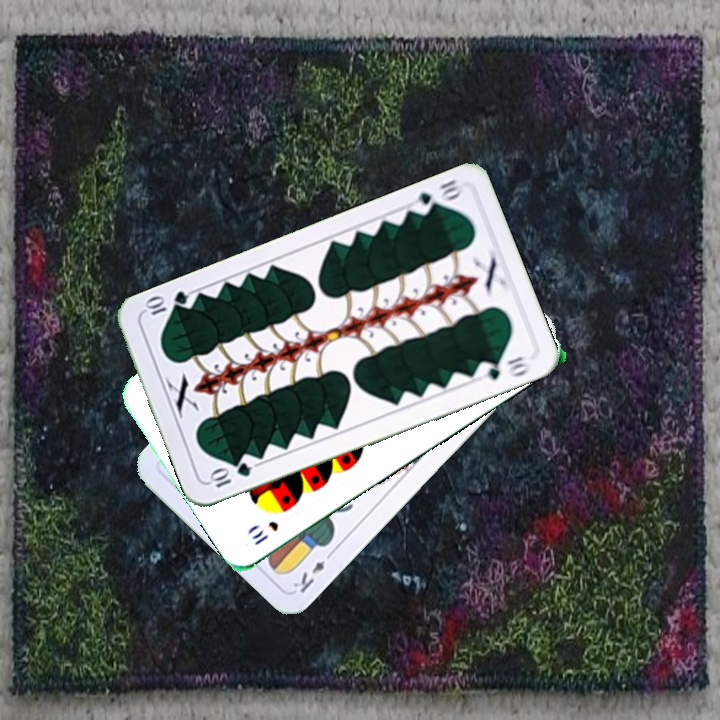EK: (288, 546, 337, 596)
G10: (411, 175, 466, 218), (205, 458, 254, 491)
S10: (247, 516, 281, 548)
